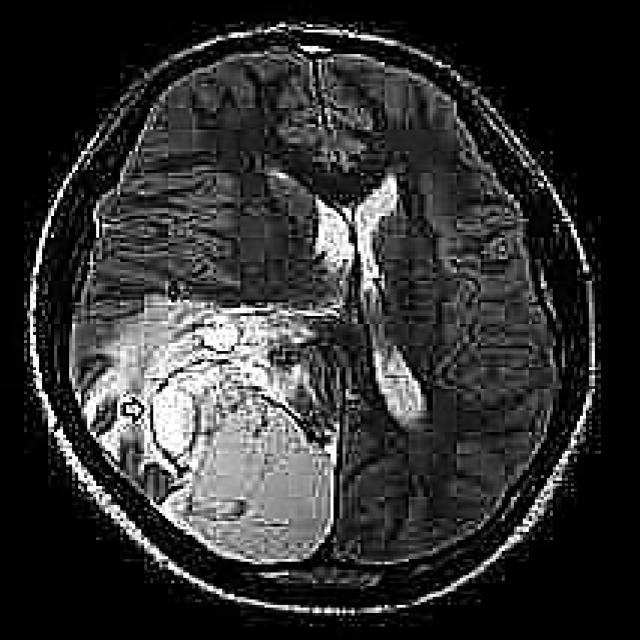Tumor-Cell: (99, 283, 349, 564)
